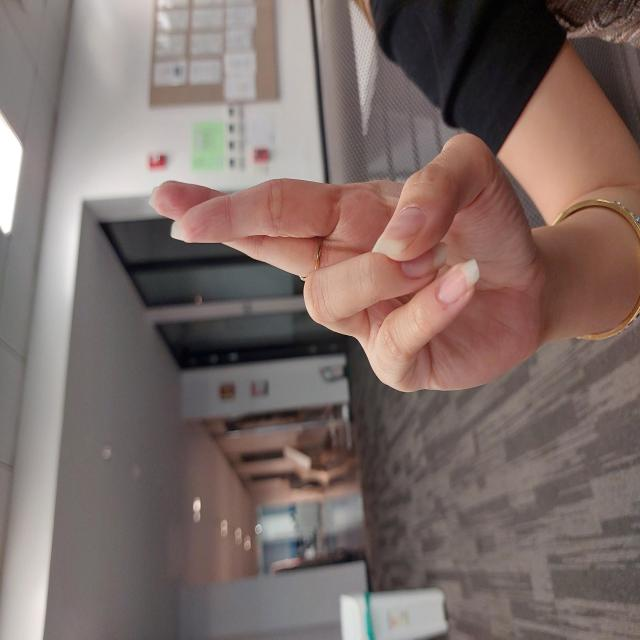R: (242, 144, 510, 546)
